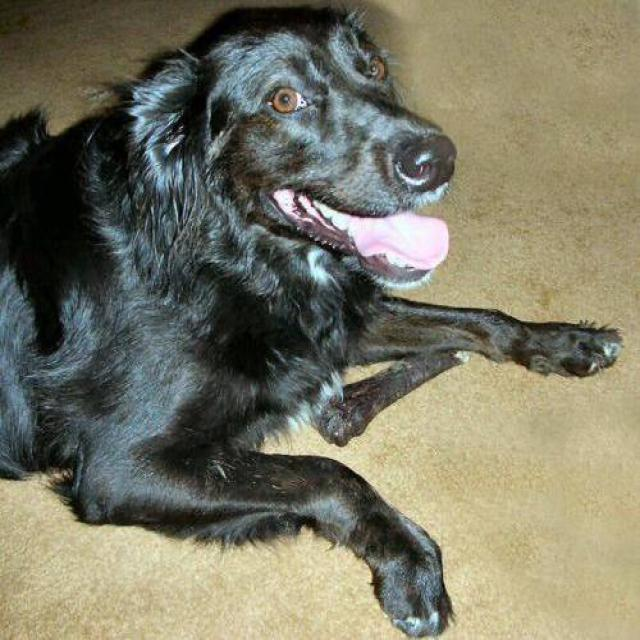dog: (0, 0, 625, 639)
